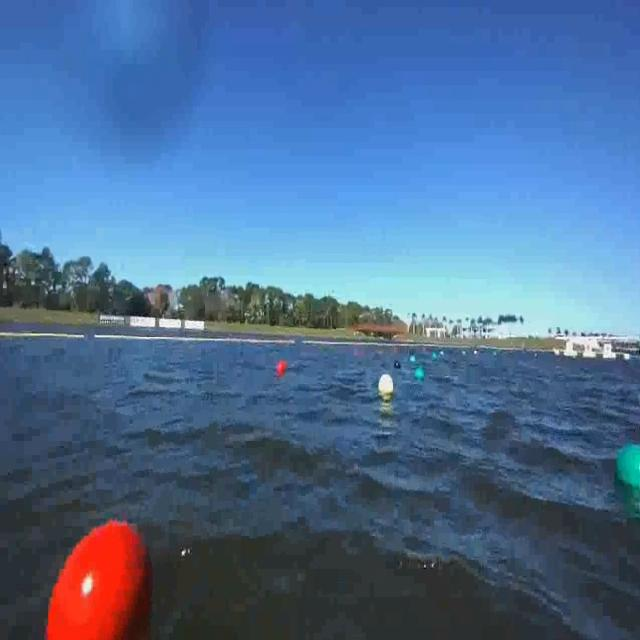black-buoy: (393, 358, 401, 368)
green-buoy: (607, 436, 640, 524), (416, 366, 424, 379)
red-buoy: (27, 506, 182, 639), (277, 360, 288, 376)
yellow-buoy: (377, 372, 392, 395)
